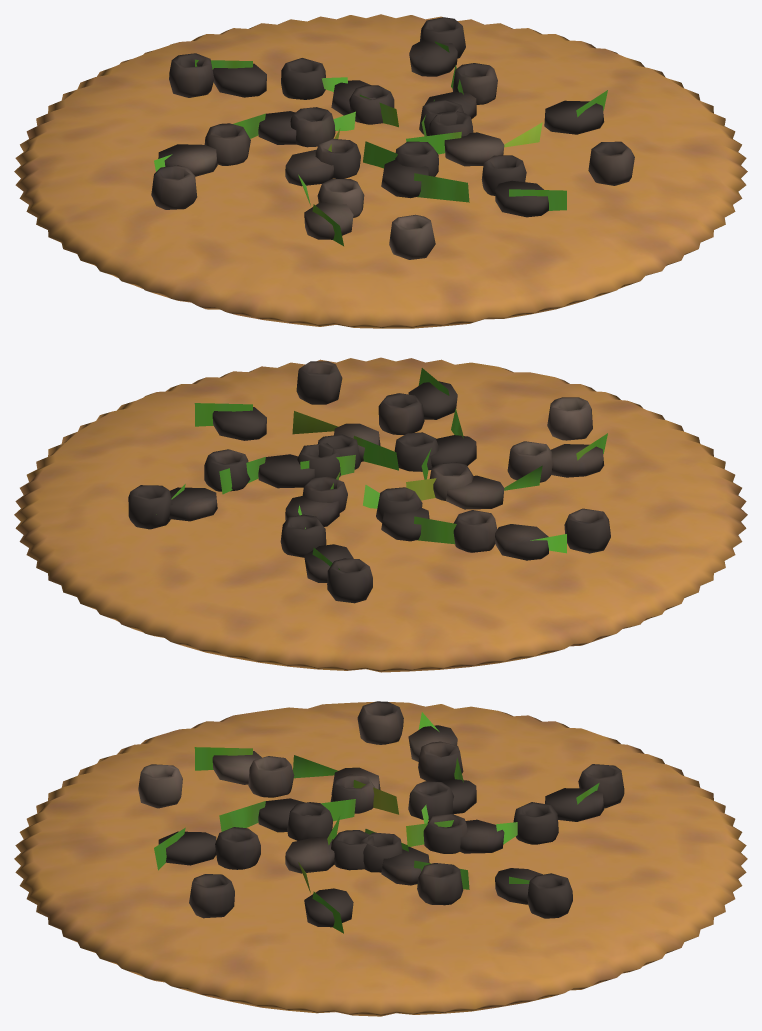
File: farmhouse-supreme-pizza-ultralight.glb
3 renders of one model, top to bottom at view 1: azimuth 30°, elevation 25°; view 2: azimuth 150°, elevation 25°; view 3: azimuth 270°, elevation 25°, orthographic.
Parts seen in each view (by area): view 1: Mesh_Artisan_Pizza_Crust, Mesh_Black_Olives_And_Mushrooms, Mesh_Farmhouse_Peppers_And_Corn; view 2: Mesh_Artisan_Pizza_Crust, Mesh_Black_Olives_And_Mushrooms, Mesh_Farmhouse_Peppers_And_Corn; view 3: Mesh_Artisan_Pizza_Crust, Mesh_Black_Olives_And_Mushrooms, Mesh_Farmhouse_Peppers_And_Corn.
Part boxes in pixels (<box>): Mesh_Artisan_Pizza_Crust: <box>14,14,747,328</box>; Mesh_Black_Olives_And_Mushrooms: <box>151,17,634,259</box>; Mesh_Farmhouse_Peppers_And_Corn: <box>154,41,607,246</box>; Mesh_Artisan_Pizza_Crust: <box>14,357,747,672</box>; Mesh_Black_Olives_And_Mushrooms: <box>128,361,610,603</box>; Mesh_Farmhouse_Peppers_And_Corn: <box>156,368,607,569</box>; Mesh_Artisan_Pizza_Crust: <box>14,701,747,1016</box>; Mesh_Black_Olives_And_Mushrooms: <box>138,701,624,927</box>; Mesh_Farmhouse_Peppers_And_Corn: <box>154,712,599,933</box>.
Size of the model in its own units: 2.4 by 0.2822 by 2.4.
Materials: 4 (4 with a texture image).
